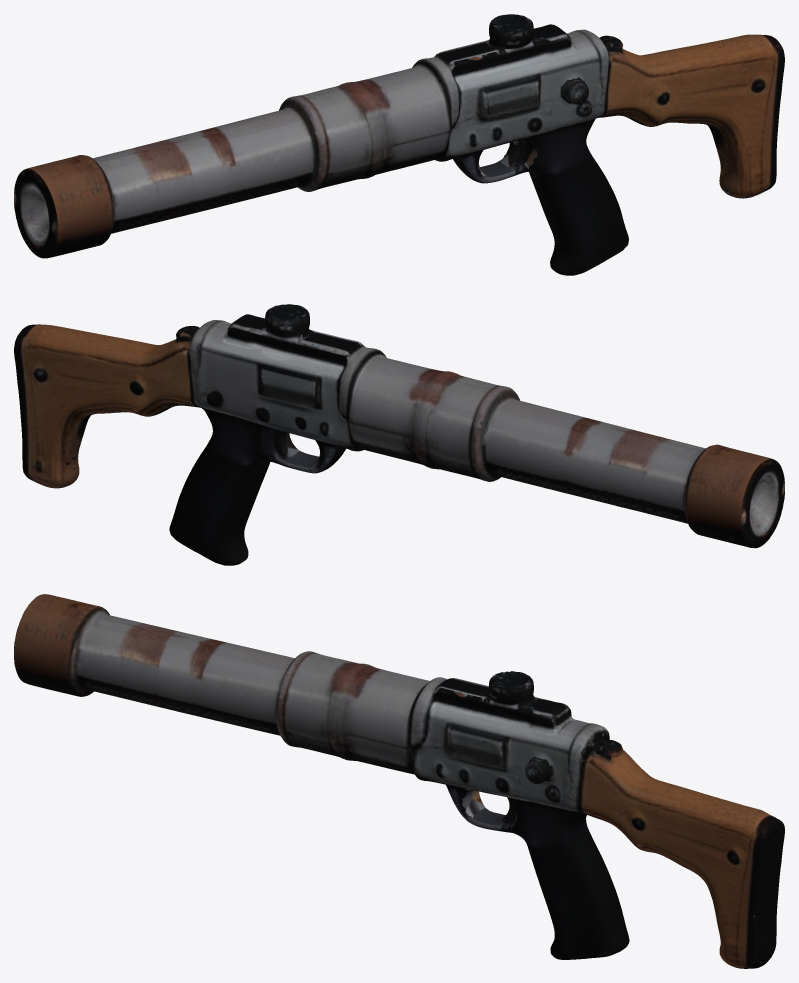
Rendered from source-50.glb.
The picture shows the model from 3 angles, top to bottom: view 1: azimuth 30°, elevation 25°; view 2: azimuth 150°, elevation 25°; view 3: azimuth 330°, elevation 25°; orthographic projection.
Parts seen in each view (by area): view 1: tmplaohtcit.ply; view 2: tmplaohtcit.ply; view 3: tmplaohtcit.ply.
Part boxes in pixels (x1,y1,x2,y2): tmplaohtcit.ply: [14, 14, 784, 275]; tmplaohtcit.ply: [14, 304, 784, 565]; tmplaohtcit.ply: [14, 594, 784, 968].
Size of the model in its own units: 1.96 by 0.6625 by 0.2132.
Materials: 1 (1 with a texture image).
